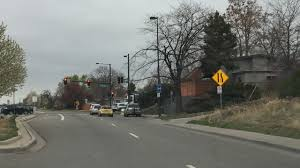laneEnds: (211, 68, 230, 86)
